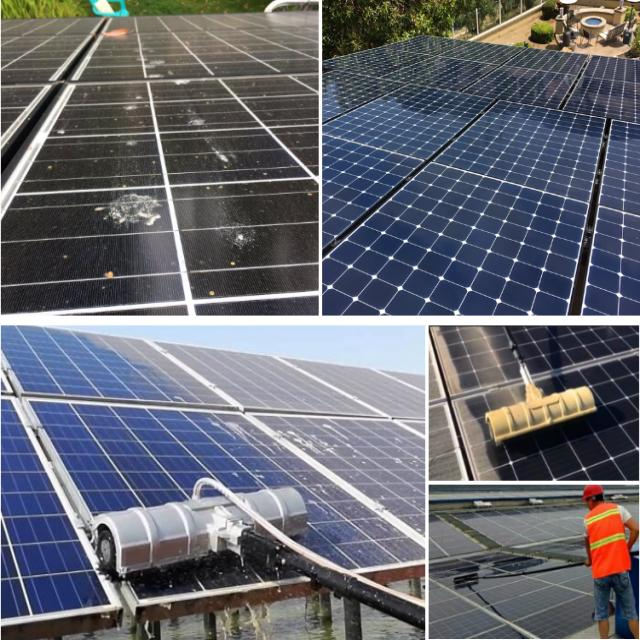clean-solar-panel: (0, 323, 394, 619), (322, 36, 640, 314)
dust-solar-panel: (1, 12, 319, 313)
